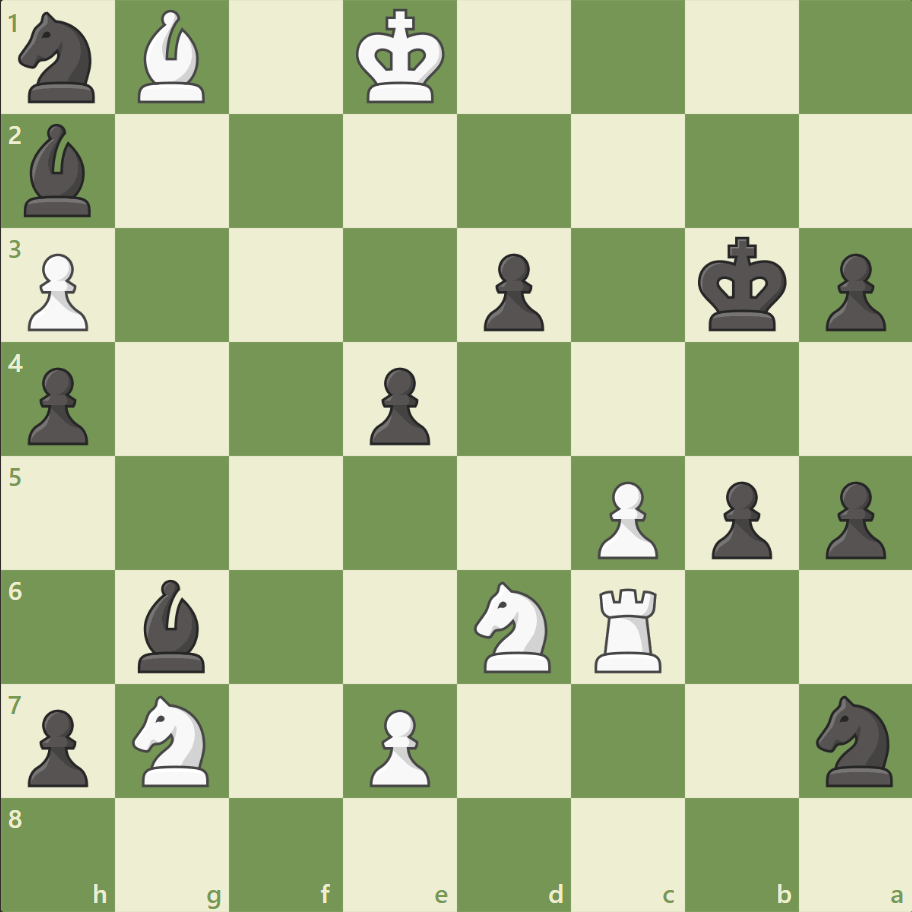B: (131, 6, 215, 109)
K: (351, 4, 451, 112)
N: (124, 688, 222, 791), (465, 575, 562, 677)
P: (20, 246, 95, 337), (361, 700, 435, 791), (588, 473, 662, 564)
R: (587, 579, 670, 676)
b: (131, 574, 215, 676), (17, 120, 101, 222)
k: (692, 231, 792, 339)
n: (806, 688, 903, 791), (11, 7, 108, 110)
p: (20, 700, 95, 791), (701, 473, 776, 564), (20, 359, 95, 450), (474, 246, 549, 337), (815, 473, 889, 564), (361, 359, 435, 450), (815, 246, 889, 337)
